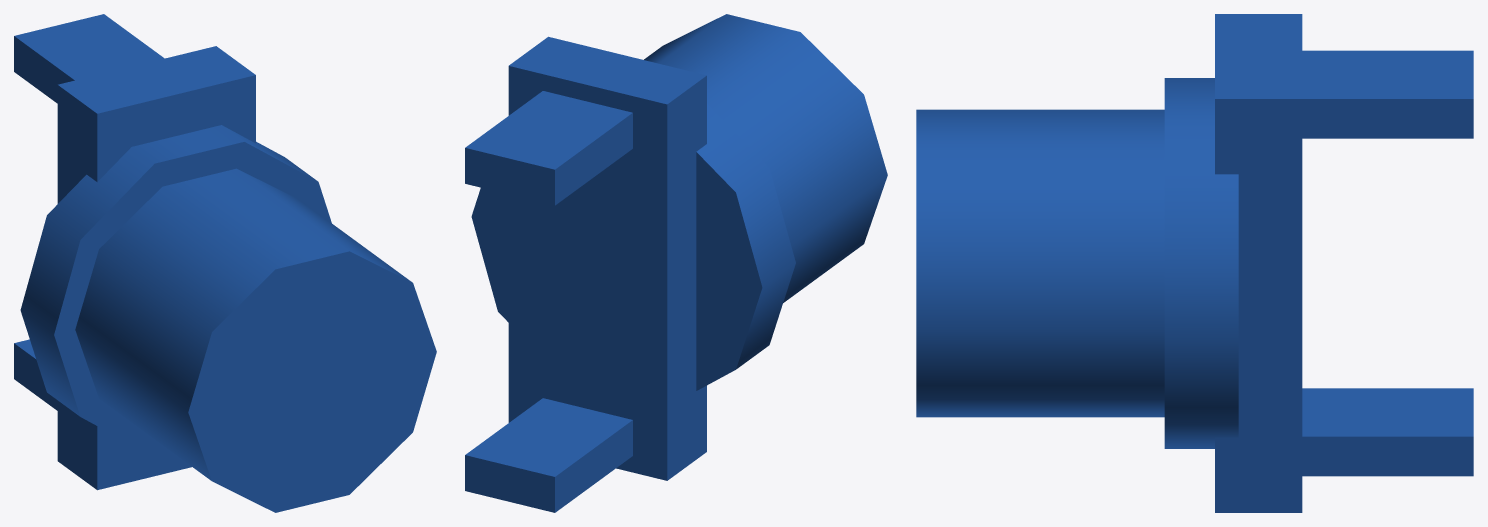
File: arm_loader_tool.obj
3 renders of one model, left to right at view 1: azimuth 30°, elevation 25°; view 2: azimuth 150°, elevation 25°; view 3: azimuth 270°, elevation 25°, orthographic. The views are drawn at different scales.
Parts seen in each view (by area): view 1: machine_blue; view 2: machine_blue; view 3: machine_blue.
Boxes of the visible parts, box(x1,y1,x2,y2) form: machine_blue: box(14, 14, 436, 512); machine_blue: box(465, 14, 887, 512); machine_blue: box(916, 14, 1473, 512).
Size of the model in its own units: 0.11 by 0.136 by 0.166.
